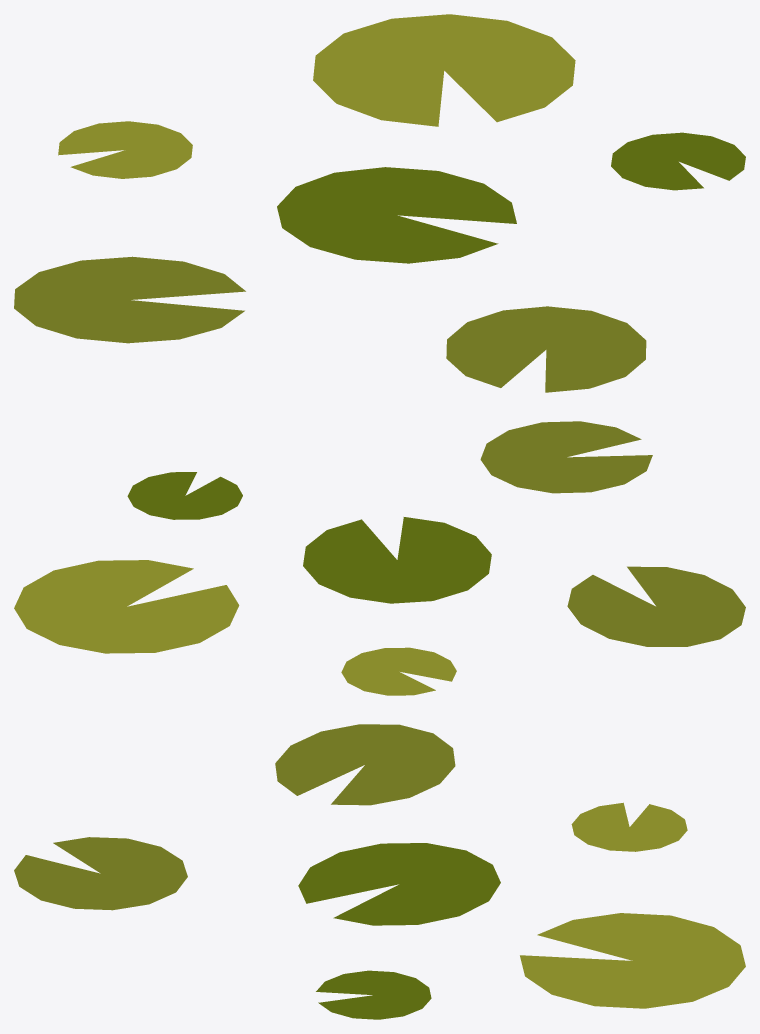
Rendered from Foliage_06.fbx.
3 views of the same model, one above another, from view 1: azimuth 30°, elevation 25°; view 2: azimuth 150°, elevation 25°; view 3: azimuth 270°, elevation 25° (orthographic). The views are drawn at different scales.
Parts seen in each view (by area): view 1: Foliage_06; view 2: Foliage_06; view 3: Foliage_06.
Boxes of the visible parts, <box> form: Foliage_06: <box>14,14,745,392</box>; Foliage_06: <box>14,421,745,695</box>; Foliage_06: <box>14,724,745,1019</box>.
Bounding box in the file's own units: 69.98 × 0 × 73.23.
